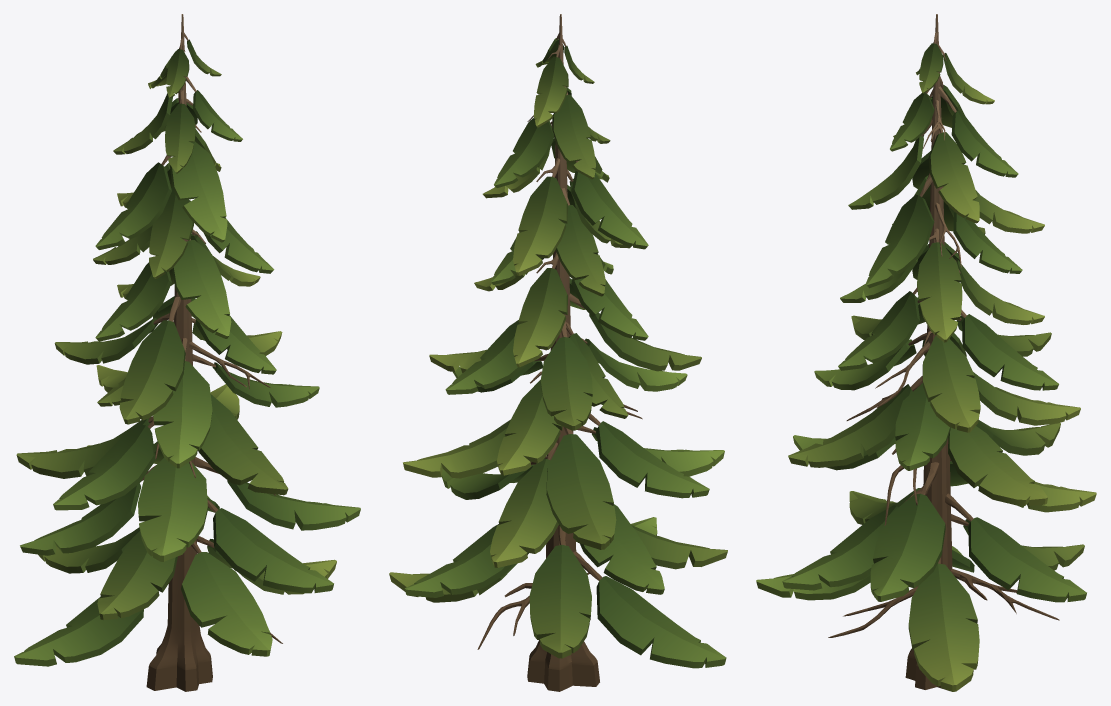
File: Tree_01.fbx
3 renders of one model, left to right at view 1: azimuth 30°, elevation 25°; view 2: azimuth 150°, elevation 25°; view 3: azimuth 270°, elevation 25°, orthographic.
Parts seen in each view (by area): view 1: Tree_01_LOD0; view 2: Tree_01_LOD0; view 3: Tree_01_LOD0.
Part boxes in pixels (<box>): Tree_01_LOD0: <box>14,14,360,691</box>; Tree_01_LOD0: <box>389,14,727,691</box>; Tree_01_LOD0: <box>756,14,1096,691</box>.
Size of what is drawn, in the model's own units: 4.29 by 8.3 by 3.85.
